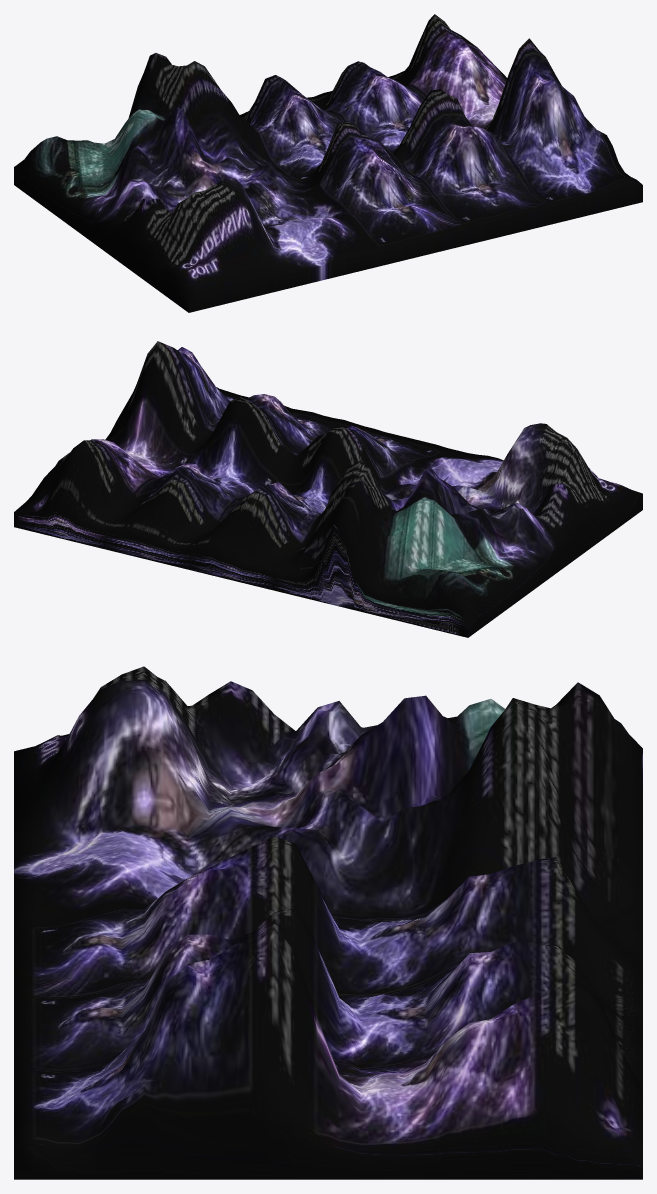
File: CUL_05_Soul_Condensing.glb
3 views of the same model, one above another, from view 1: azimuth 30°, elevation 25°; view 2: azimuth 150°, elevation 25°; view 3: azimuth 270°, elevation 25° (orthographic). The views are drawn at different scales.
Parts seen in each view (by area): view 1: CUL_05_Soul_Condensing; view 2: CUL_05_Soul_Condensing; view 3: CUL_05_Soul_Condensing.
Part boxes in pixels (left/top/right/bottom): CUL_05_Soul_Condensing: left=14, top=14, right=642, bottom=312; CUL_05_Soul_Condensing: left=14, top=341, right=642, bottom=637; CUL_05_Soul_Condensing: left=14, top=666, right=642, bottom=1179.
Bounding box in the file's own units: 2 × 0.51 × 1.33.
1 material, 1 textured.
